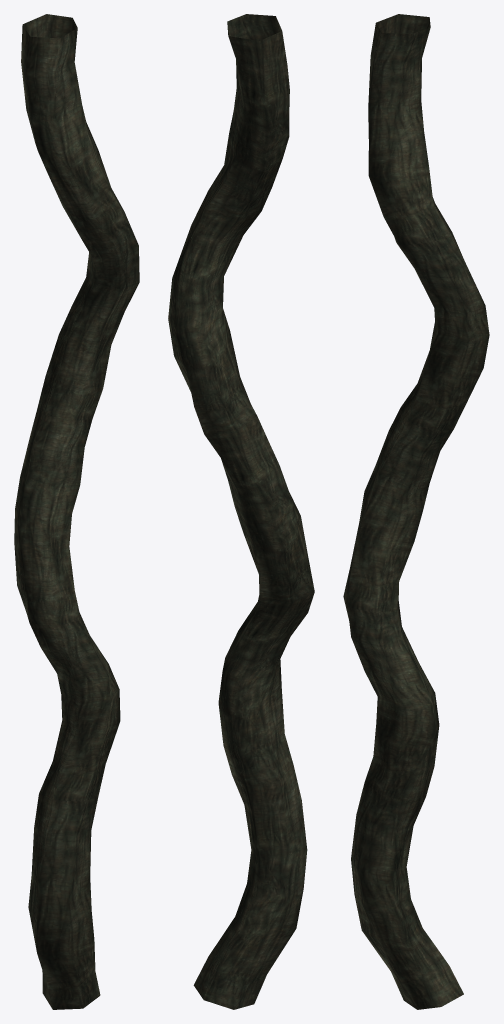
File: Root_large1.fbx
3 views of the same model, side by side, from view 1: azimuth 30°, elevation 25°; view 2: azimuth 150°, elevation 25°; view 3: azimuth 330°, elevation 25° (orthographic).
Parts seen in each view (by area): view 1: polySurface31; view 2: polySurface31; view 3: polySurface31.
Boxes of the visible parts, x1,y1,x2,y2 form: polySurface31: (14, 14, 139, 1009); polySurface31: (168, 14, 314, 1009); polySurface31: (343, 14, 489, 1009).
Bounding box in the file's own units: 4.16 × 32.99 × 3.47.
